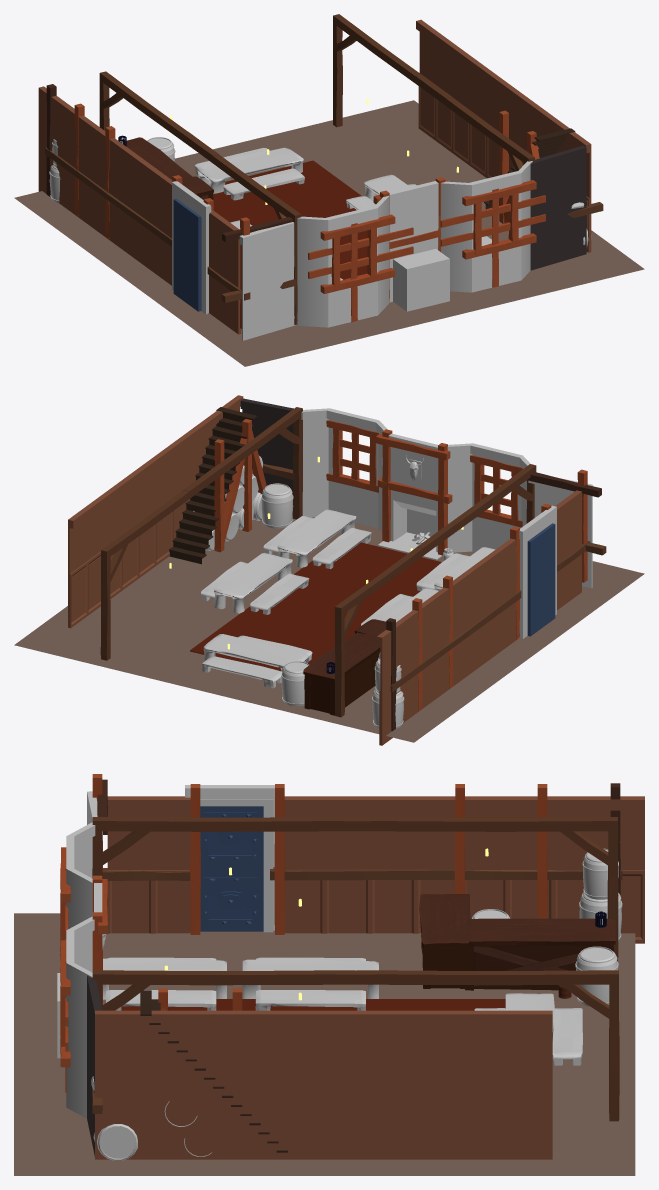
File: inn_centered.fbx
The picture shows the model from 3 angles, top to bottom: view 1: azimuth 30°, elevation 25°; view 2: azimuth 150°, elevation 25°; view 3: azimuth 270°, elevation 25°; orthographic projection. The views are drawn at different scales.
Parts seen in each view (by area): view 1: Floor.005, Wall + wooden detail.002, Wall + wooden detail.004, Wall and Window.001, Simple Wall.004, Wall and Window.003, Fireplace.001, Simple Wall.001, Floor.001, Spike door.001, Wall + wooden detail.001, Support Beam.001 (+24 smaller); view 2: Floor.005, Wall + wooden detail.004, Wall + wooden detail.002, Floor.001, Wall and Window.003, Wall and Window.001, Fireplace.001, Stairs.001, Bar ORIGINAL.001, Spike door.001, Support Beam.001, Support Beam.004 (+31 smaller); view 3: Wall + wooden detail.004, Floor.005, Wall + wooden detail.002, Wall + wooden detail.001, Bar ORIGINAL.001, Spike door.001, Support Beam.001, Support Beam.004, Support Beam.002, Support Beam.003, Wall and Window.003, Bar ORIGINAL.002 (+23 smaller).
Boxes of the visible parts, bbox=[...] form: Floor.005: bbox=[14, 100, 644, 366]; Wall + wooden detail.002: bbox=[38, 86, 172, 285]; Wall + wooden detail.004: bbox=[416, 19, 591, 252]; Wall and Window.001: bbox=[297, 196, 389, 327]; Simple Wall.004: bbox=[530, 145, 586, 270]; Wall and Window.003: bbox=[440, 161, 532, 292]; Fireplace.001: bbox=[389, 181, 449, 311]; Simple Wall.001: bbox=[239, 222, 296, 340]; Floor.001: bbox=[213, 160, 367, 279]; Spike door.001: bbox=[173, 198, 201, 311]; Wall + wooden detail.001: bbox=[209, 210, 241, 334]; Support Beam.001: bbox=[333, 14, 452, 127]; Floor.005: bbox=[14, 515, 644, 742]; Wall + wooden detail.004: bbox=[68, 395, 243, 628]; Wall + wooden detail.002: bbox=[377, 538, 518, 745]; Floor.001: bbox=[190, 542, 441, 671]; Wall and Window.003: bbox=[301, 408, 387, 532]; Wall and Window.001: bbox=[447, 443, 530, 552]; Fireplace.001: bbox=[378, 433, 442, 560]; Stairs.001: bbox=[169, 407, 257, 564]; Bar ORIGINAL.001: bbox=[303, 632, 380, 715]; Spike door.001: bbox=[527, 523, 555, 636]; Support Beam.001: bbox=[100, 467, 220, 660]; Support Beam.004: bbox=[335, 524, 454, 717]; Wall + wooden detail.004: bbox=[95, 1010, 552, 1159]; Floor.005: bbox=[14, 913, 635, 1175]; Wall + wooden detail.002: bbox=[284, 796, 644, 943]; Wall + wooden detail.001: bbox=[107, 796, 190, 933]; Bar ORIGINAL.001: bbox=[465, 918, 615, 990]; Spike door.001: bbox=[200, 806, 263, 931]; Support Beam.001: bbox=[314, 970, 619, 1121]; Support Beam.004: bbox=[312, 817, 618, 961]; Support Beam.002: bbox=[92, 817, 397, 878]; Support Beam.003: bbox=[92, 970, 397, 1010]; Wall and Window.003: bbox=[66, 916, 94, 1118]; Bar ORIGINAL.002: bbox=[419, 894, 470, 988].
Size of the model in its own units: 2489 by 766 by 2527.
